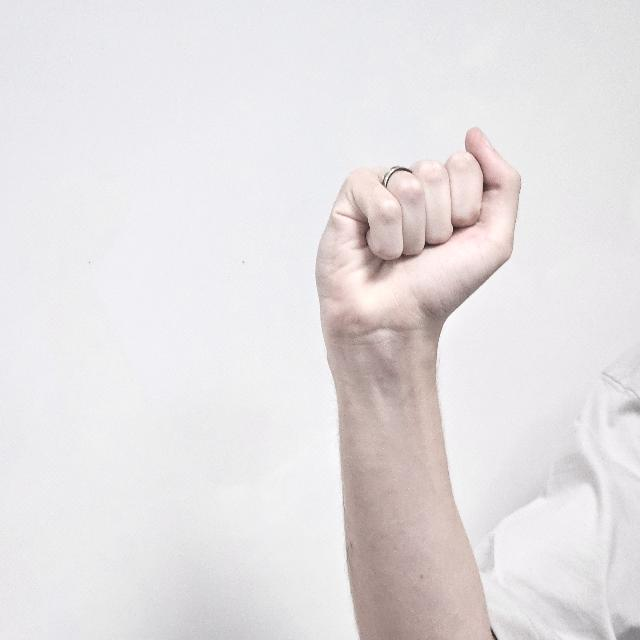Quadro: (316, 129, 520, 355)
